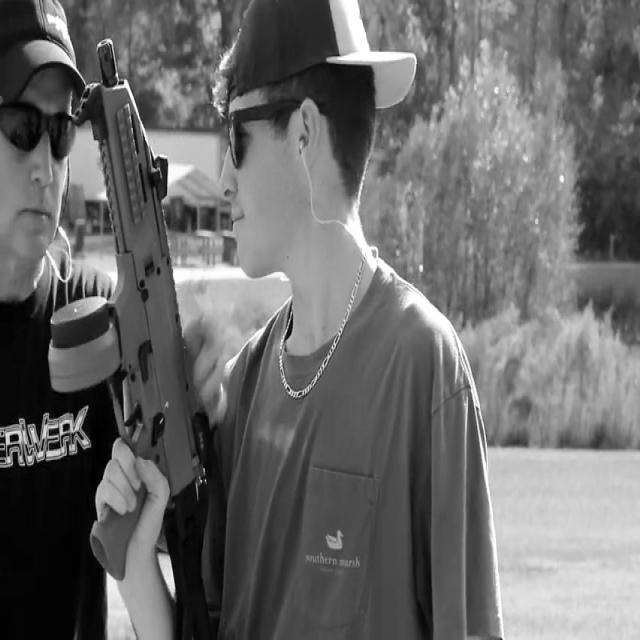Sub-machine-gun: (35, 31, 214, 585)
